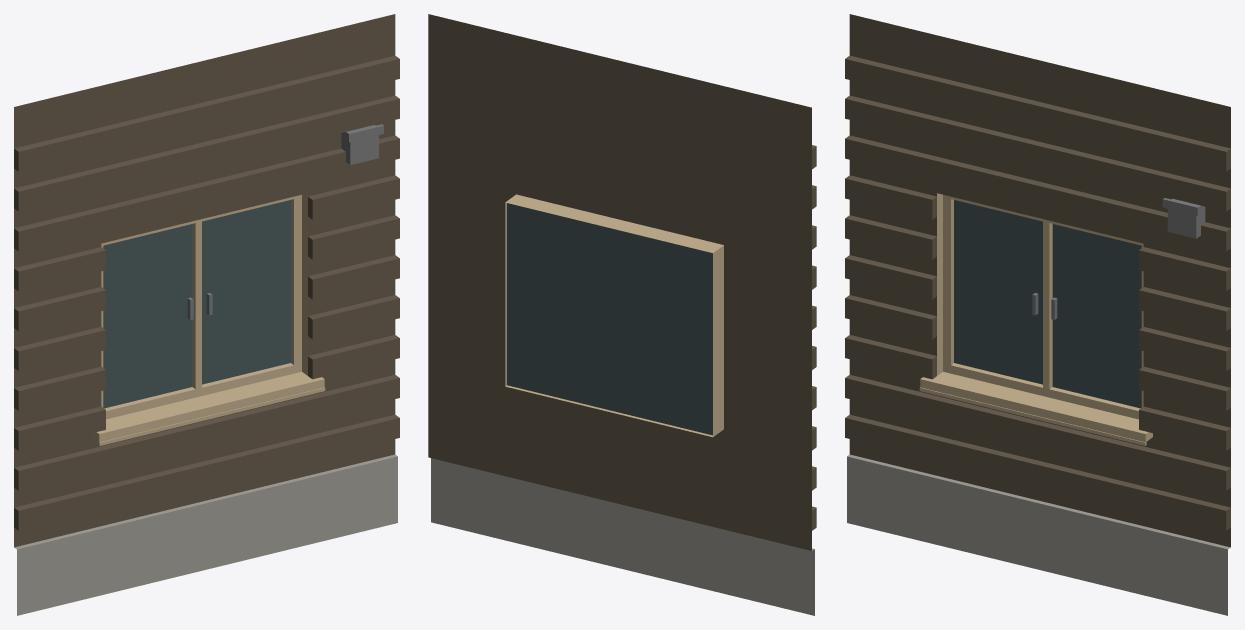
Rendered from base-w3_close.fbx.
3 renders of one model, left to right at view 1: azimuth 30°, elevation 25°; view 2: azimuth 150°, elevation 25°; view 3: azimuth 330°, elevation 25°, orthographic.
Visible parts, largest first — view 1: a2015/400/base-w3_close; view 2: a2015/400/base-w3_close; view 3: a2015/400/base-w3_close.
Boxes of the visible parts, x1=… form: a2015/400/base-w3_close: x1=14, y1=14, x2=399, y2=615; a2015/400/base-w3_close: x1=428, y1=14, x2=816, y2=615; a2015/400/base-w3_close: x1=845, y1=14, x2=1230, y2=615.
Size of the model in its own units: 2.4 by 3.05 by 0.24.
